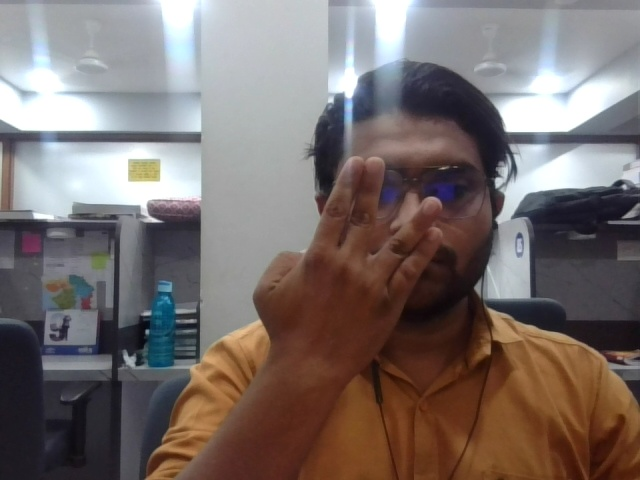LiveLong: (271, 153, 444, 368)
